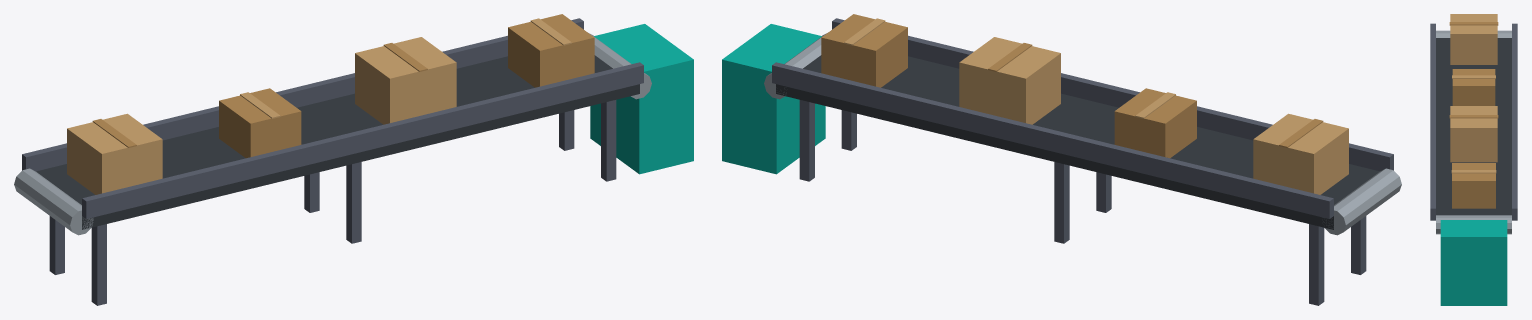
Rendered from welt_foerderband.glb.
The picture shows the model from 3 angles, left to right: view 1: azimuth 30°, elevation 25°; view 2: azimuth 150°, elevation 25°; view 3: azimuth 270°, elevation 25°; orthographic projection. The views are drawn at different scales.
Parts seen in each view (by area): view 1: welt_foerderband_rahmen, paket_3, paket_1, paket_4, paket_2; view 2: welt_foerderband_rahmen, paket_3, paket_1, paket_4, paket_2; view 3: welt_foerderband_rahmen, paket_3, paket_1, paket_4, paket_2.
Boxes of the visible parts, x1,y1,x2,y2 form: welt_foerderband_rahmen: [14, 18, 693, 305]; paket_3: [355, 37, 456, 124]; paket_1: [67, 113, 162, 194]; paket_4: [508, 14, 594, 87]; paket_2: [219, 88, 301, 158]; welt_foerderband_rahmen: [722, 18, 1401, 305]; paket_3: [959, 37, 1060, 124]; paket_1: [1253, 113, 1348, 194]; paket_4: [821, 14, 907, 87]; paket_2: [1114, 88, 1196, 158]; welt_foerderband_rahmen: [1430, 23, 1517, 305]; paket_3: [1449, 106, 1498, 162]; paket_1: [1449, 14, 1498, 64]; paket_4: [1451, 163, 1496, 208]; paket_2: [1452, 69, 1495, 105].
Bounding box in the file's own units: 5.18 × 1.19 × 0.92.
